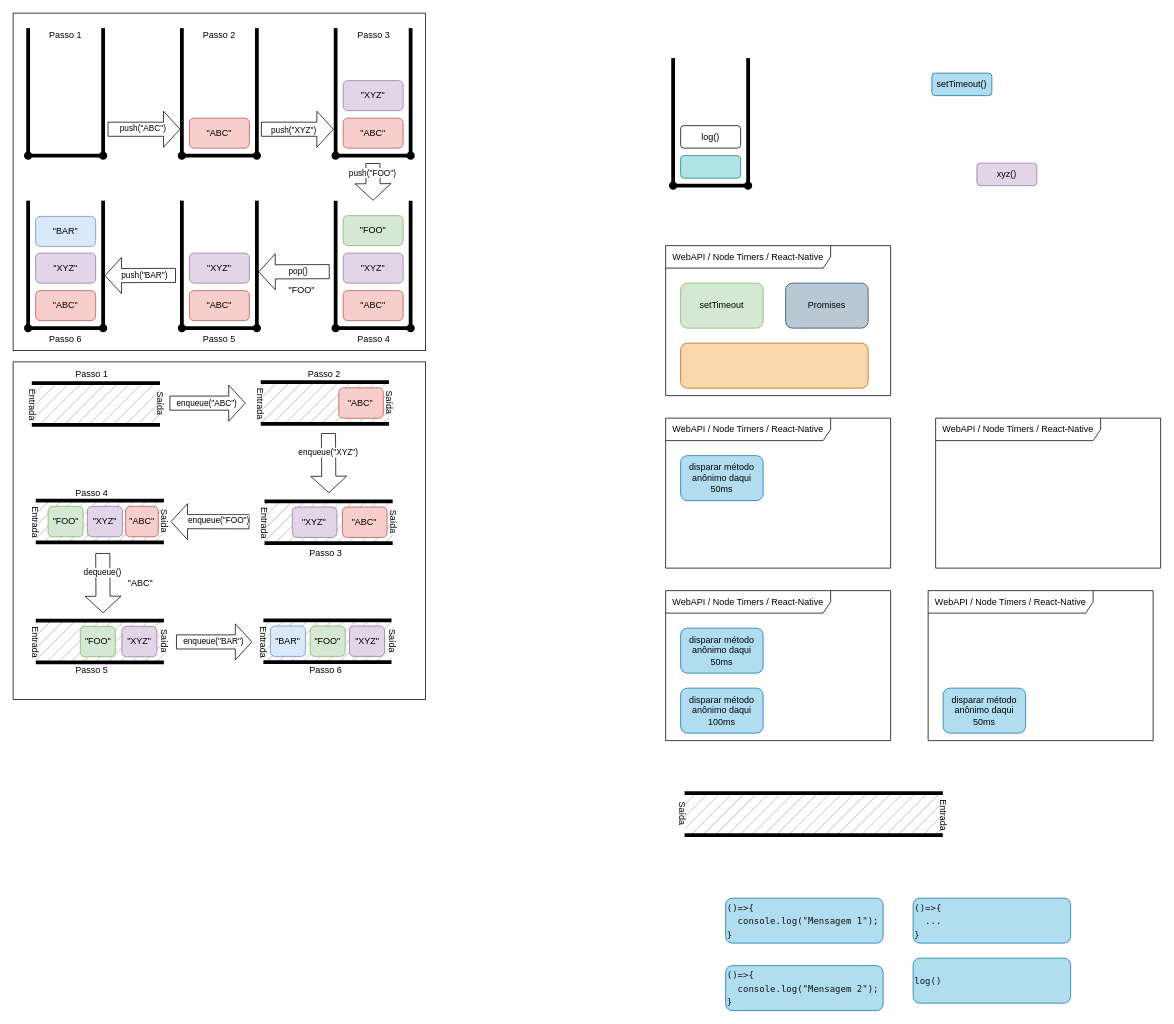
The diagram is 1174 pixels wide and 1024 high, and some of its shapes have lost their labels. The shapes that lost their labels are listed below. From the top down, each one's box as (x1, y1, x2, y2) in pixels, then its label:
(680, 155, 741, 178): anonymous()
(680, 342, 868, 388): outras implementações
